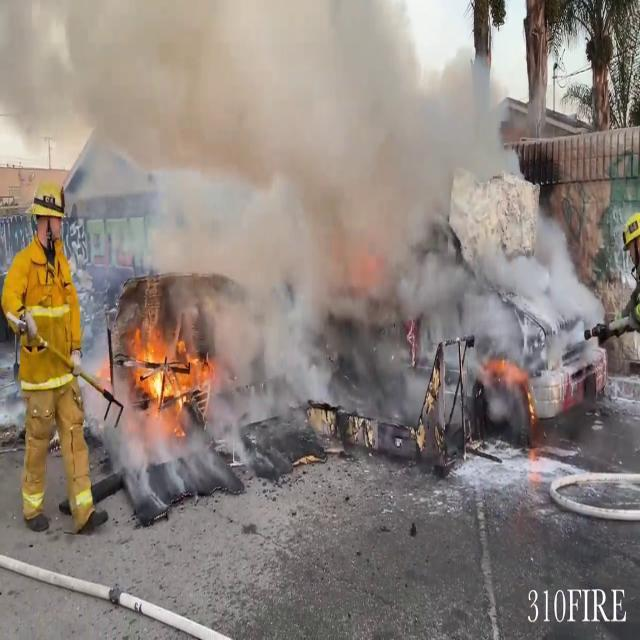Fire: (125, 308, 215, 432)
Smoke: (19, 1, 597, 427)
